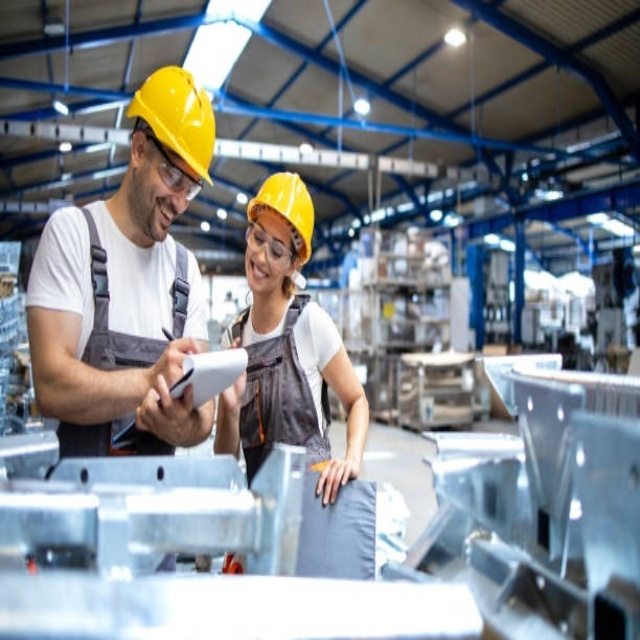Gafas: (145, 132, 205, 204), (247, 221, 297, 270)
Sin_guantes: (137, 359, 209, 446), (313, 456, 356, 504)
Sin_mascara: (156, 207, 174, 230), (250, 261, 269, 279)
